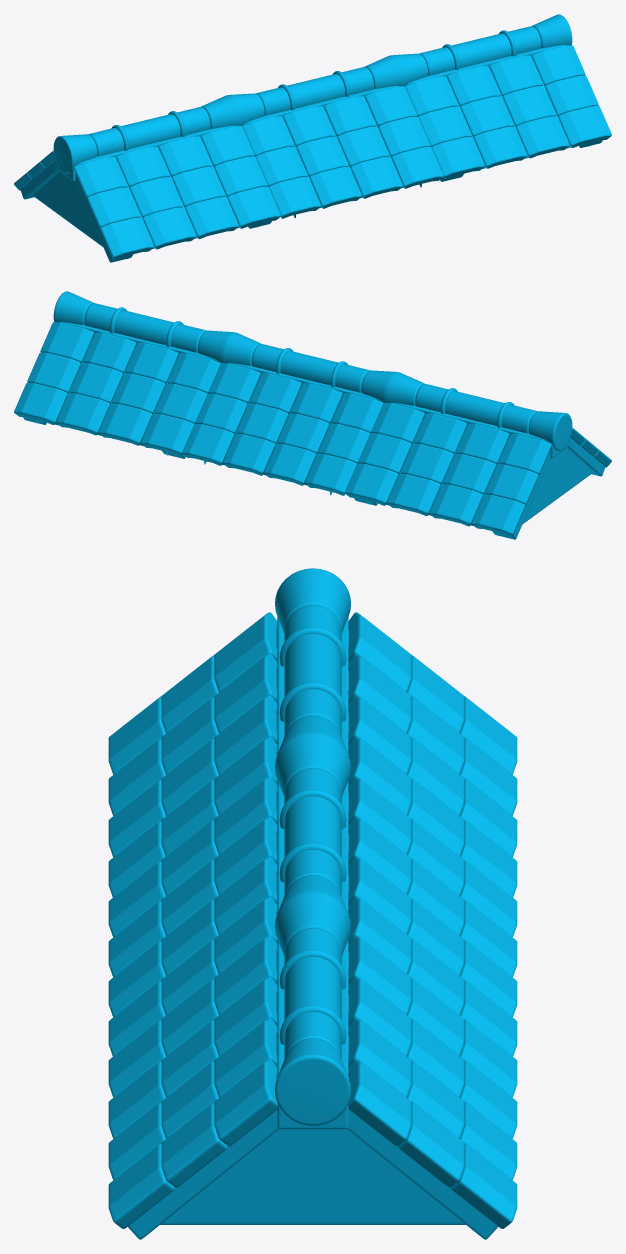
File: SM_Wood_Roof_05.fbx
3 renders of one model, top to bottom at view 1: azimuth 30°, elevation 25°; view 2: azimuth 150°, elevation 25°; view 3: azimuth 270°, elevation 25°, orthographic. The views are drawn at different scales.
Visible parts, largest first — view 1: SM_Wood_Roof_05; view 2: SM_Wood_Roof_05; view 3: SM_Wood_Roof_05.
Part boxes in pixels (x1,y1,x2,y2): SM_Wood_Roof_05: [14, 14, 611, 262]; SM_Wood_Roof_05: [14, 291, 611, 539]; SM_Wood_Roof_05: [108, 568, 517, 1239].
Size of the model in its own units: 7.56 by 1.37 by 2.67.
